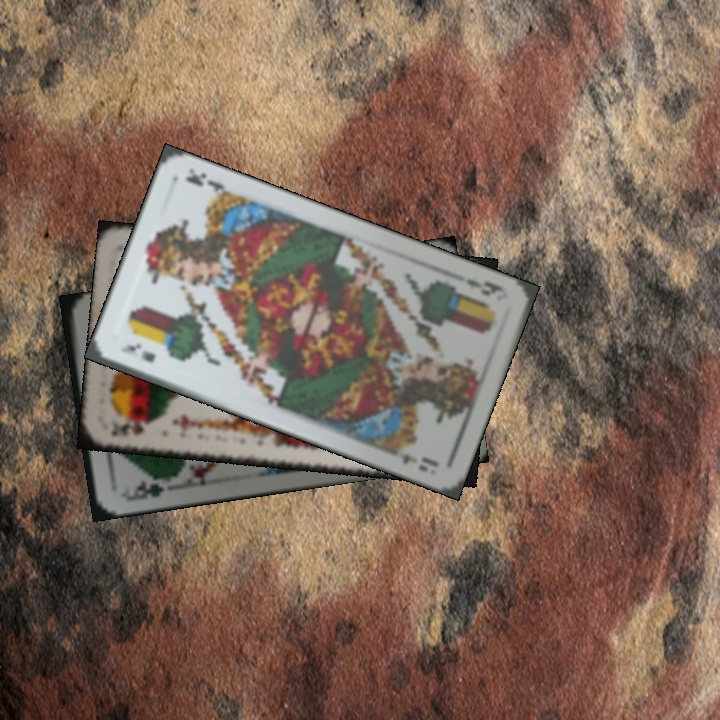EK: (116, 339, 158, 366), (462, 274, 505, 299)
GK: (120, 478, 167, 504)
SK: (106, 417, 156, 439)
